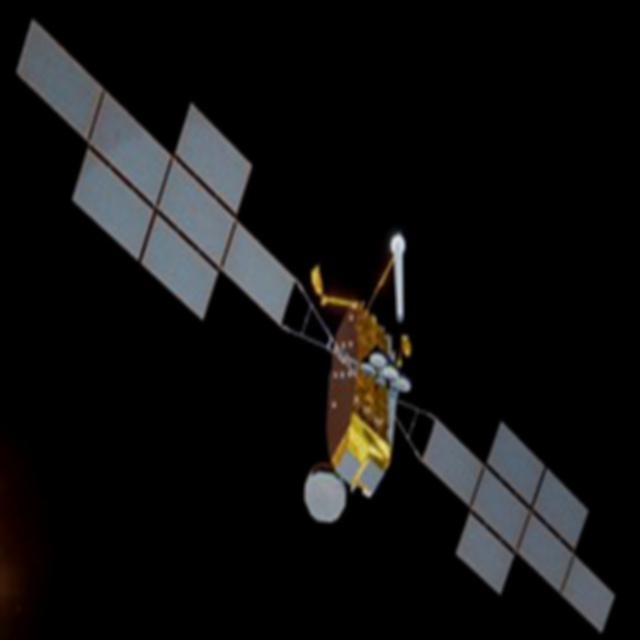medium_debris: (15, 22, 621, 630)
